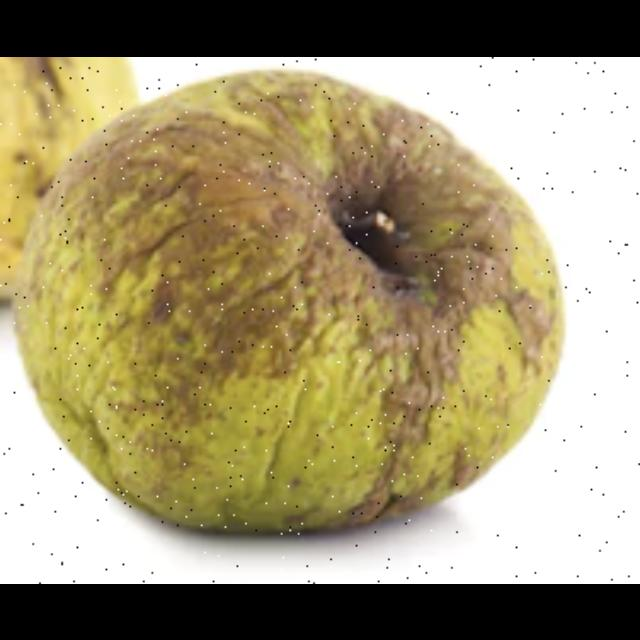Apel Tidak Segar: (11, 61, 583, 547)
